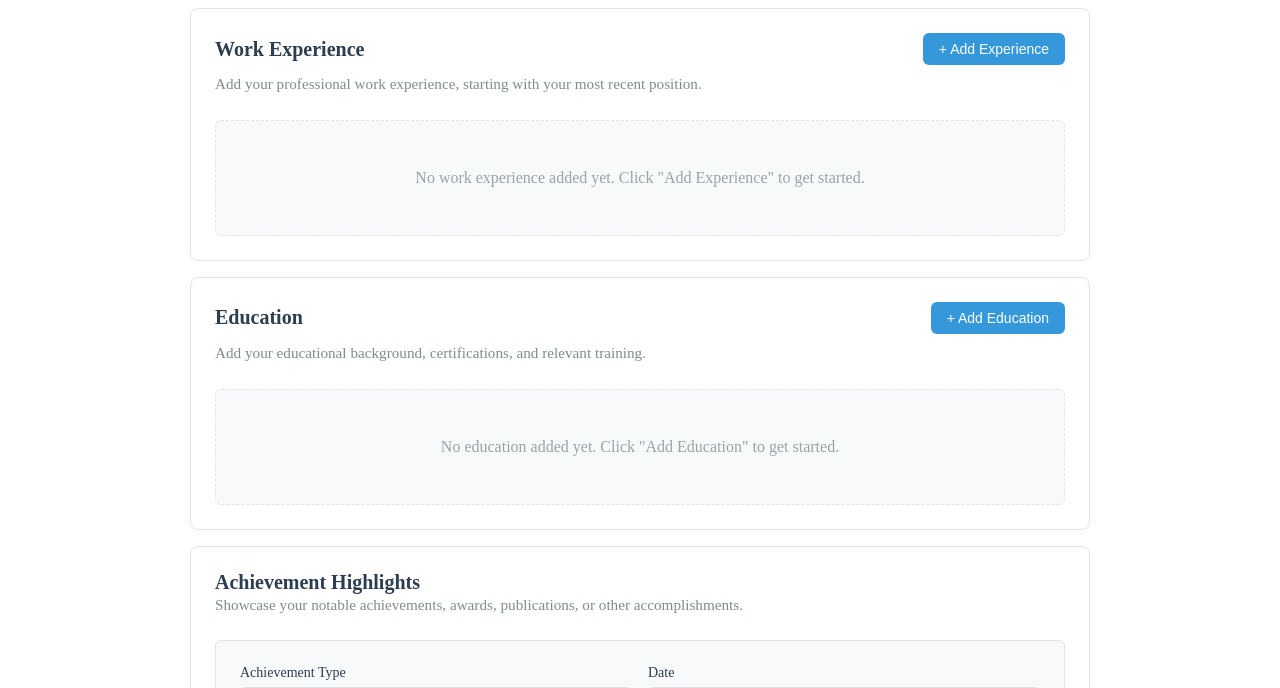
Test case: ExperienceStep Component › Work Experience Management › allows adding new work experience
Click the button "+ Add Experience". click: (994,49)
box: [923,33,1065,65]
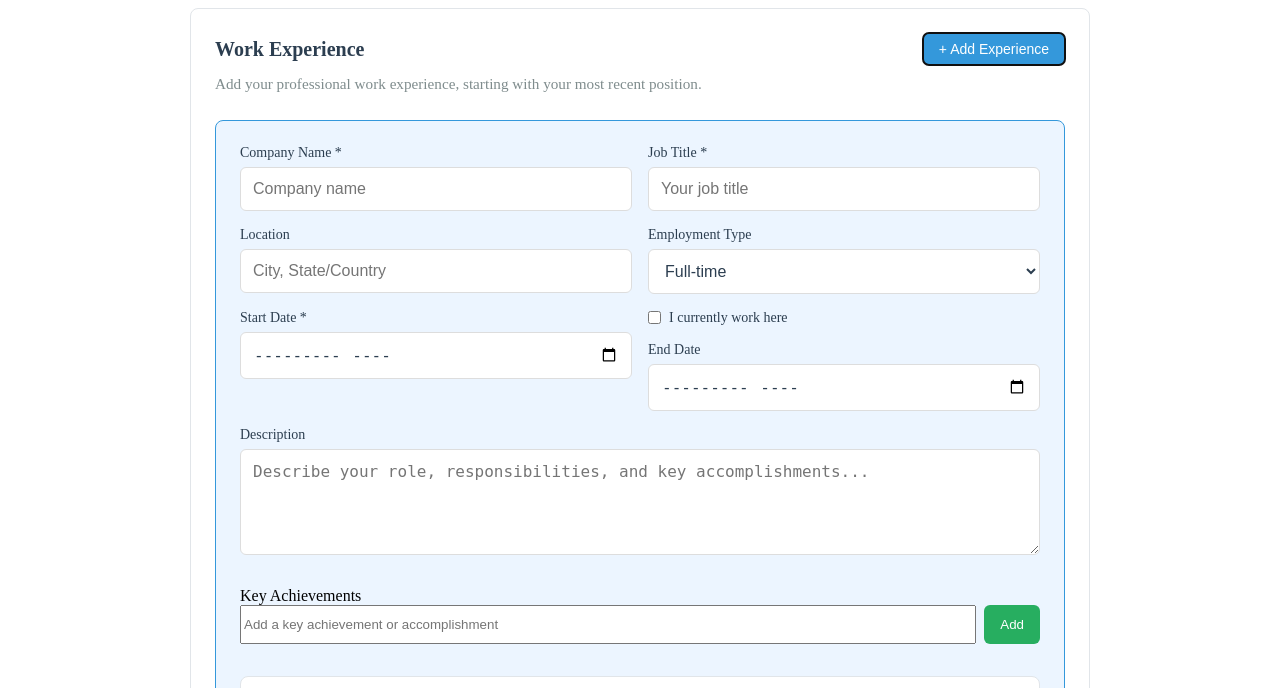
expect the field with placeholder "Company name" is shown: met, box [240,167,632,211]
expect the field with placeholder "Your job title" is shown: met, box [648,167,1040,211]
